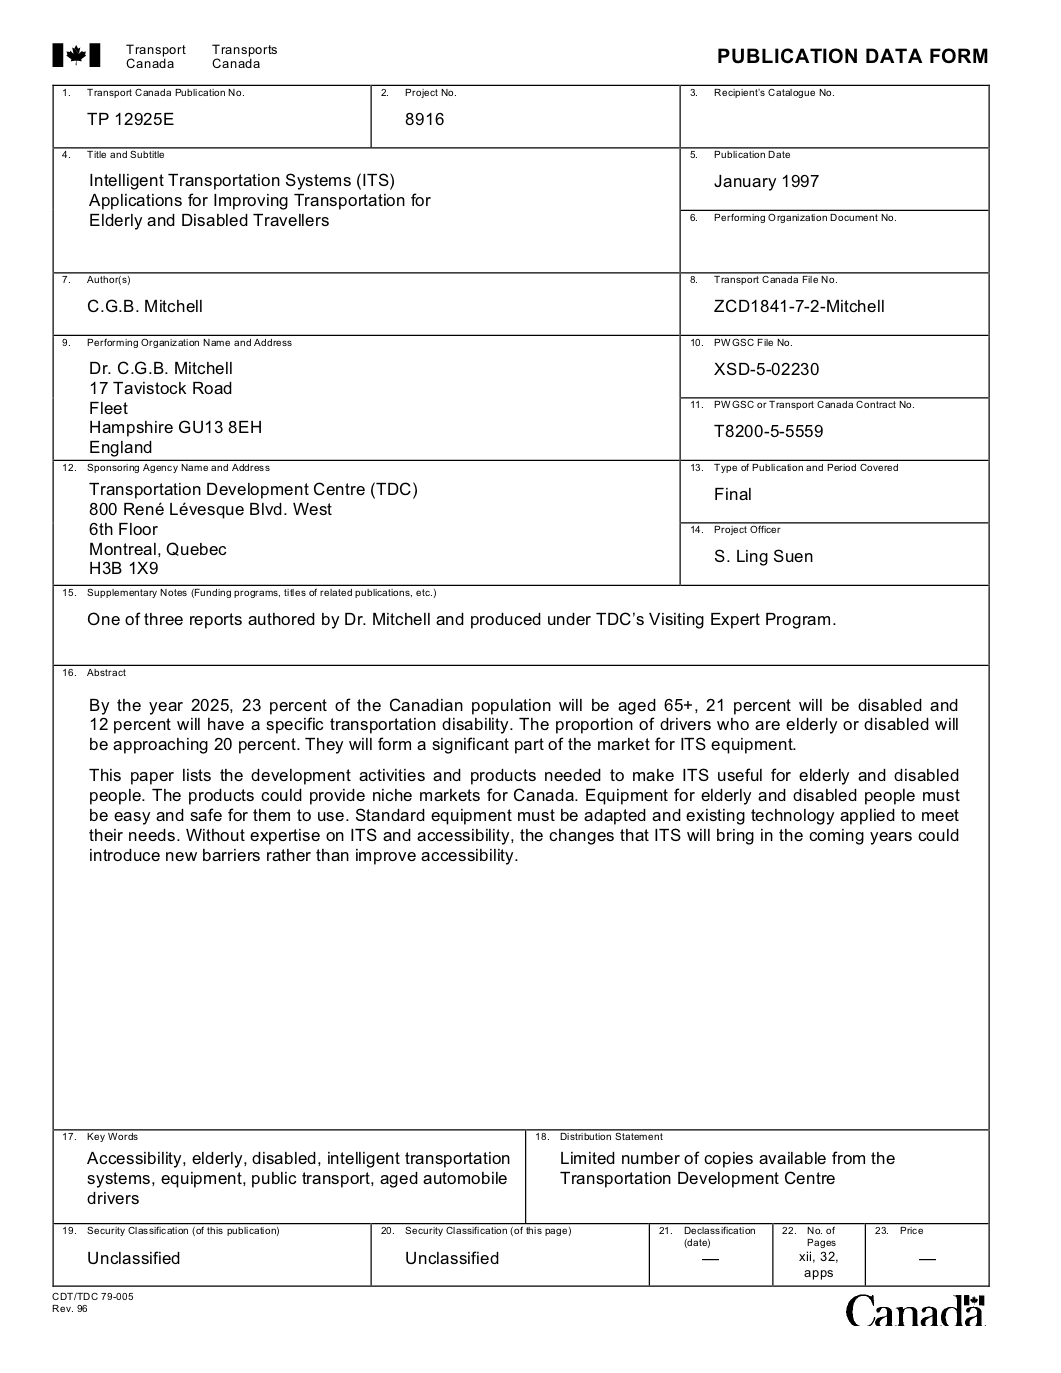Table: (52, 82, 989, 1287)
figure: (846, 1294, 985, 1325), (52, 43, 100, 66)
